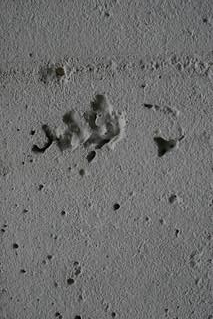Spalling: (1, 67, 213, 319)
